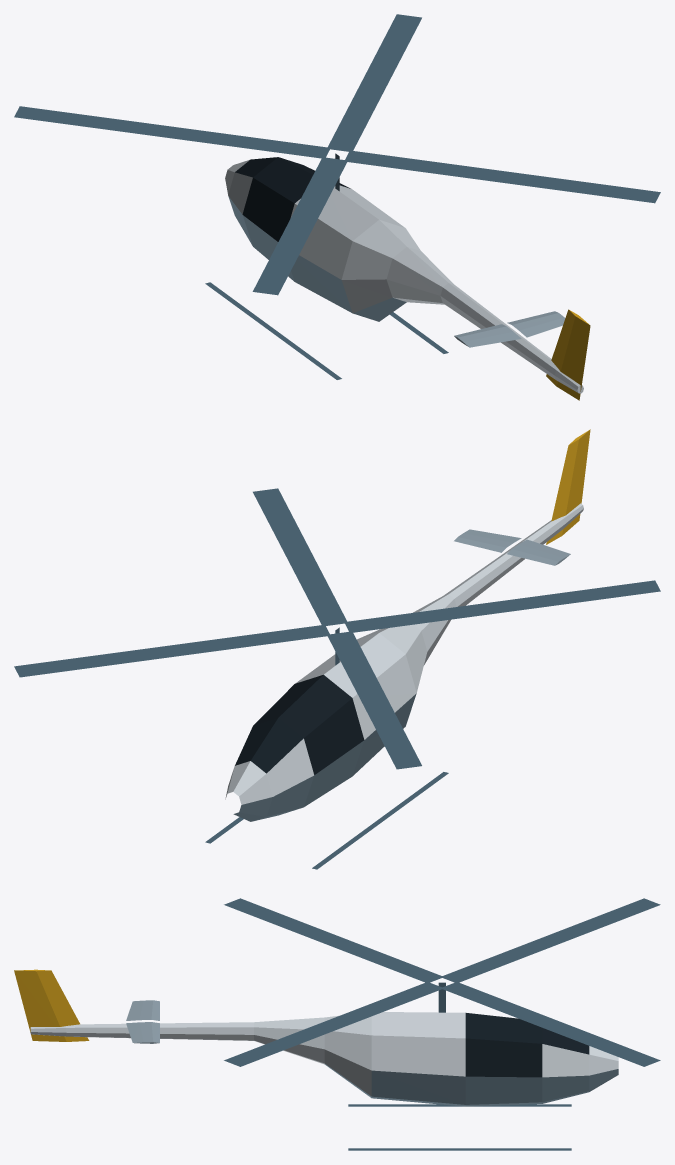
3 renders of one model, top to bottom at view 1: azimuth 30°, elevation 25°; view 2: azimuth 150°, elevation 25°; view 3: azimuth 270°, elevation 25°, orthographic. The views are drawn at different scales.
Visible parts, largest first — view 1: lod0; view 2: lod0; view 3: lod0.
Part boxes in pixels (bbox=[...]): lod0: bbox=[14, 14, 660, 400]; lod0: bbox=[14, 429, 660, 869]; lod0: bbox=[14, 898, 660, 1150].
Size of what is drawn, in the model's own units: 0.6169 by 0.2678 by 1.
